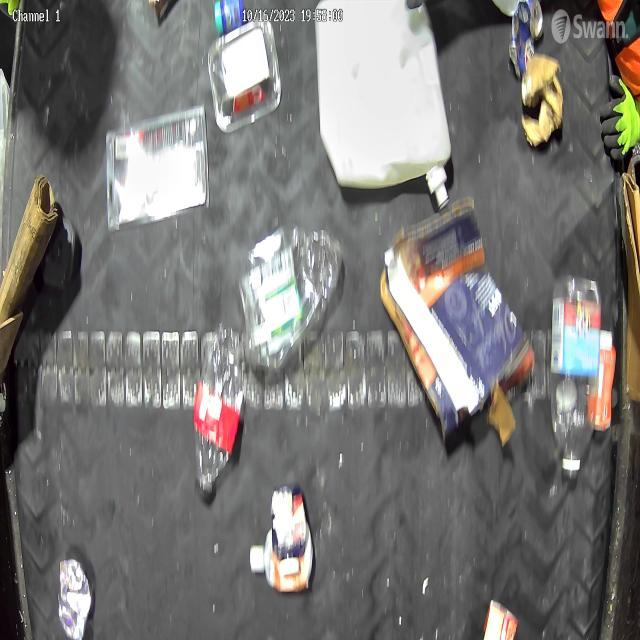can: (47, 544, 96, 640), (508, 0, 544, 83), (480, 594, 526, 640)
milk_jug: (313, 0, 451, 211)
plastic_bottle: (238, 227, 341, 364), (545, 273, 601, 481), (191, 325, 248, 490)
